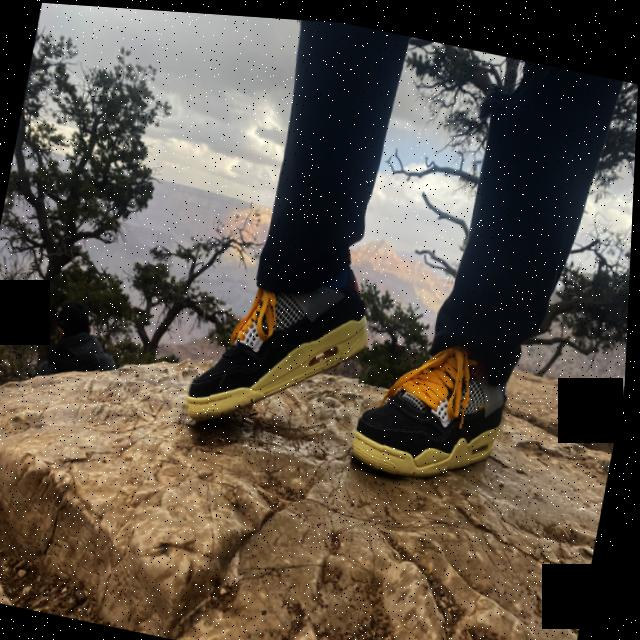shoe: (182, 233, 382, 454), (353, 320, 524, 492)
